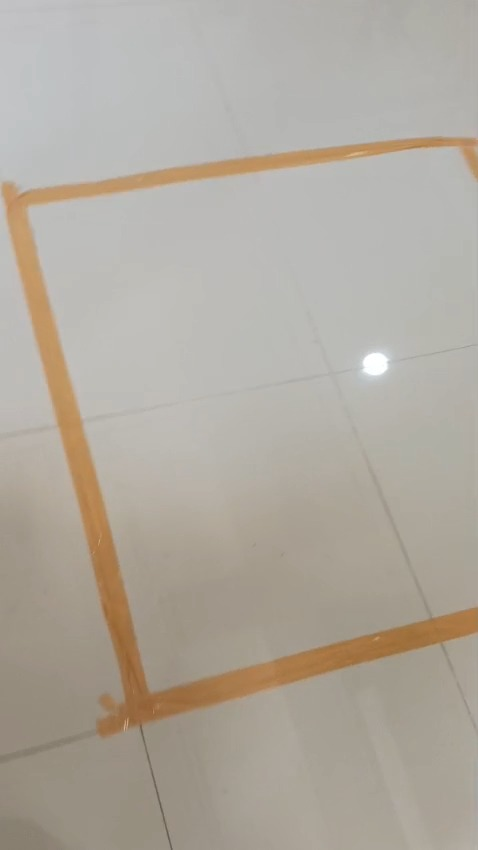floor marking: (2, 137, 477, 735)
